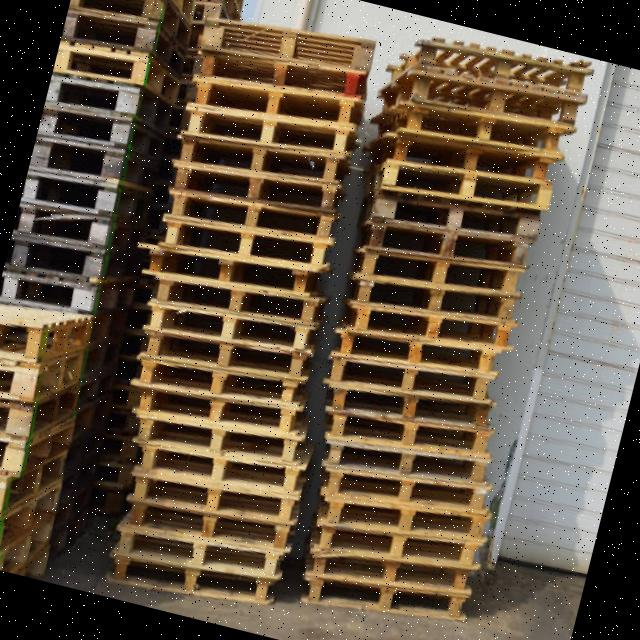Wooden-Pallets: (104, 14, 589, 625), (0, 315, 91, 575), (138, 250, 330, 368), (175, 80, 360, 186), (144, 222, 336, 322), (162, 142, 346, 246), (132, 318, 316, 422), (185, 50, 368, 148), (170, 111, 346, 212), (156, 200, 339, 294), (132, 356, 306, 454), (197, 26, 374, 118), (200, 0, 377, 89), (362, 97, 578, 167), (407, 24, 588, 97), (397, 67, 579, 130), (116, 490, 302, 551), (315, 456, 495, 518), (108, 521, 286, 583), (305, 514, 486, 572), (358, 216, 555, 269), (344, 268, 525, 325), (370, 189, 559, 243), (132, 436, 307, 494), (315, 405, 499, 460), (387, 156, 562, 209), (303, 544, 473, 595), (321, 355, 499, 403), (126, 474, 300, 523), (330, 326, 509, 372)
